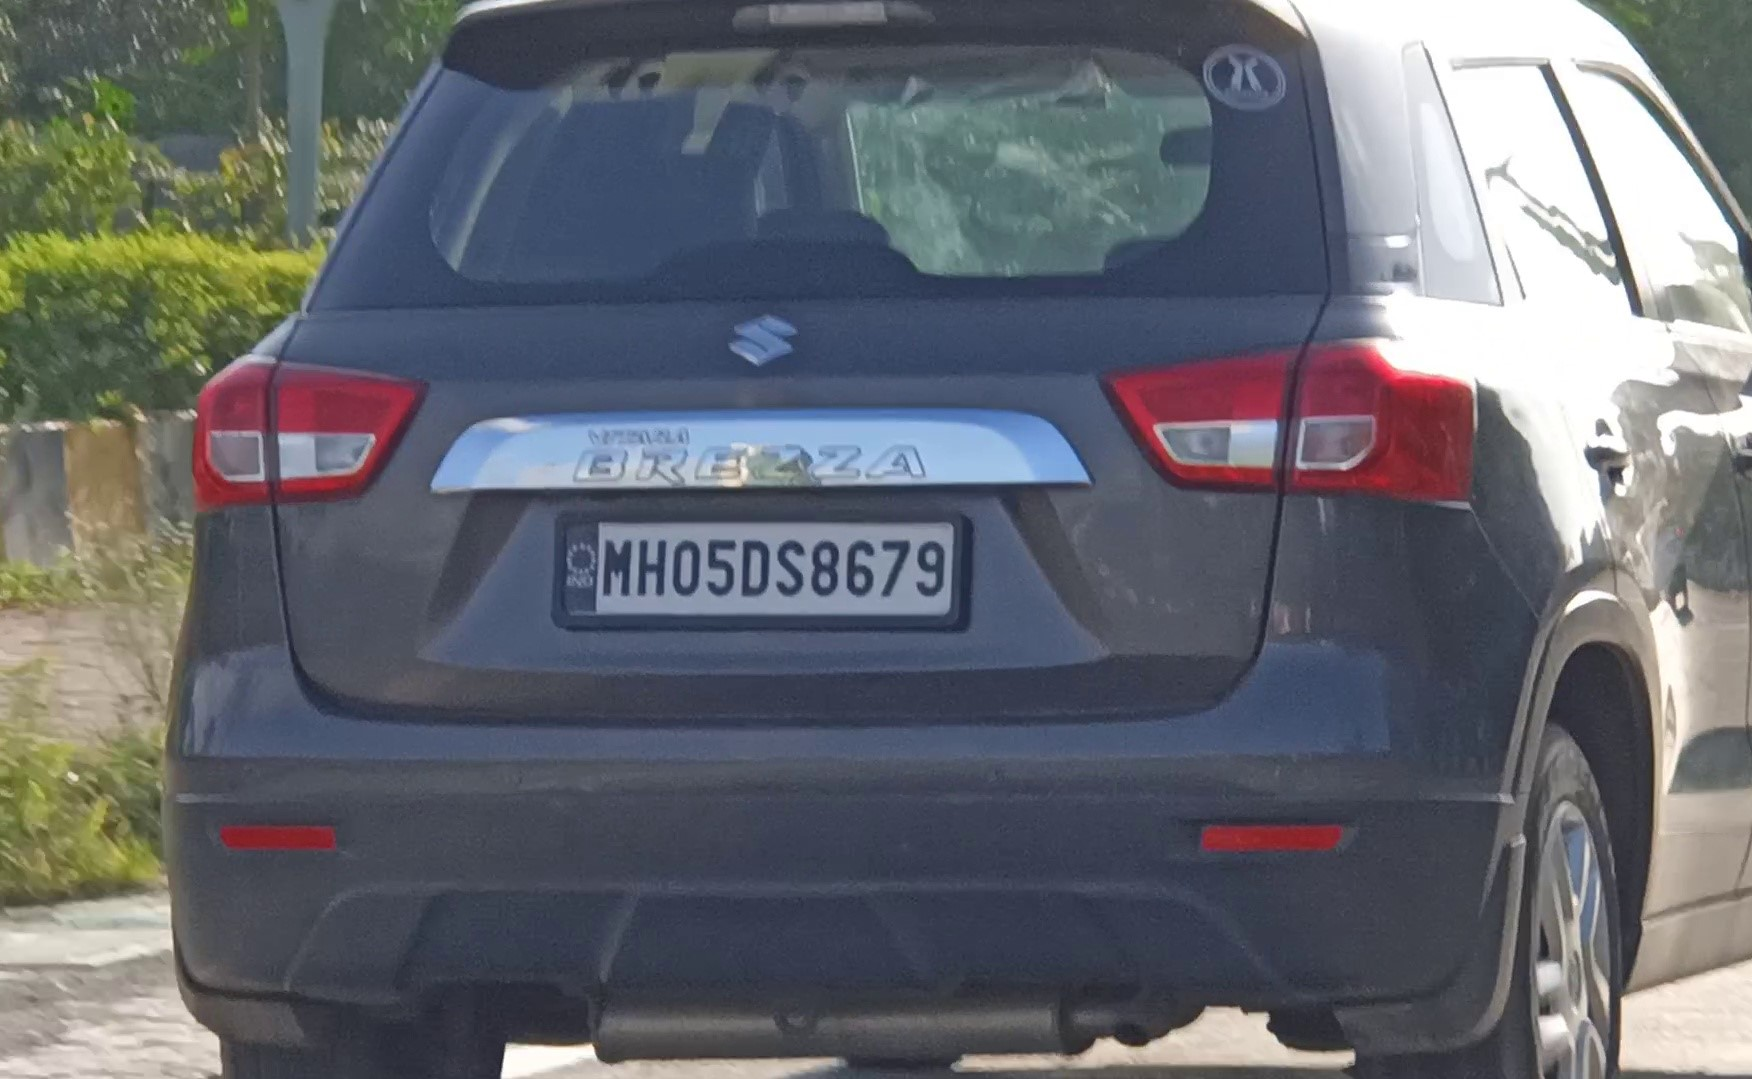MH05DS8679: (558, 521, 956, 619)
